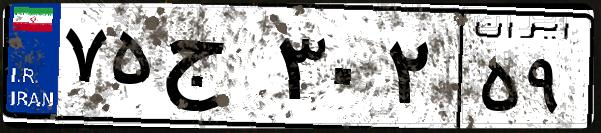0: (330, 28, 385, 110)
2: (385, 28, 445, 110)
3: (270, 28, 330, 110)
5: (475, 38, 525, 113), (110, 28, 158, 98)
7: (57, 26, 110, 100)
9: (525, 38, 570, 115)
ج: (158, 20, 270, 120)
